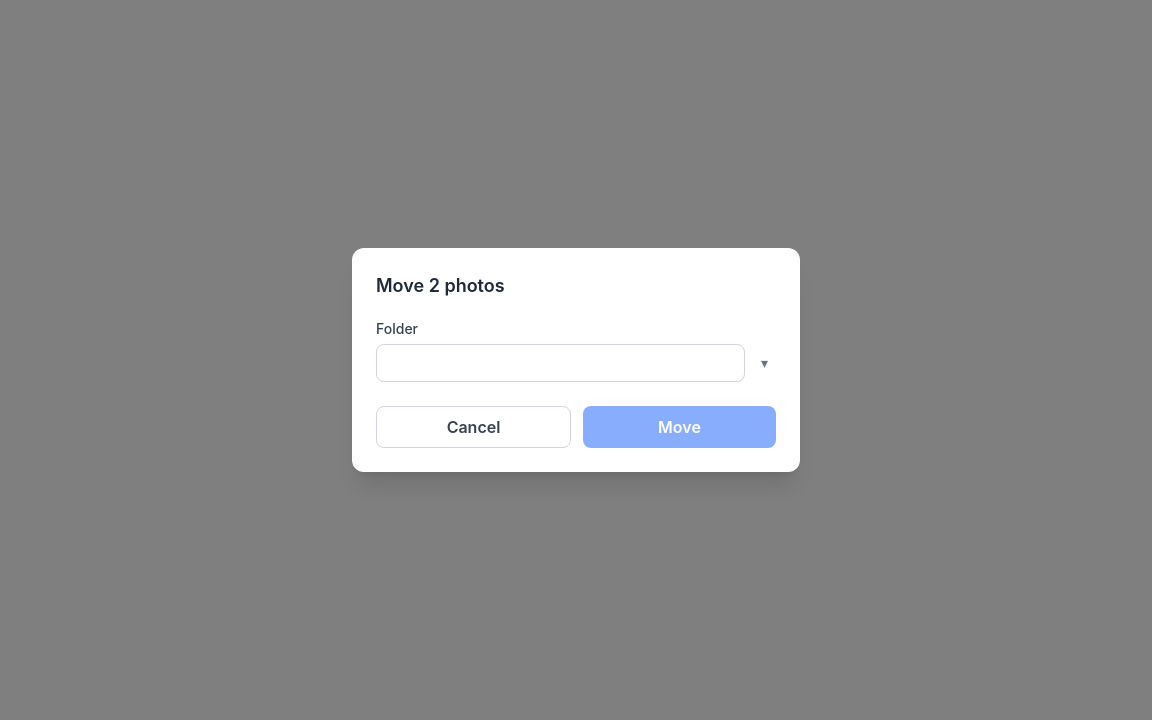
Test: MoveImagesModal › shows the API's sentence on a 404 and stays open
Step 1. Click the button with test id "album-picker-toggle" → click(764, 363), box [753,344,776,382]
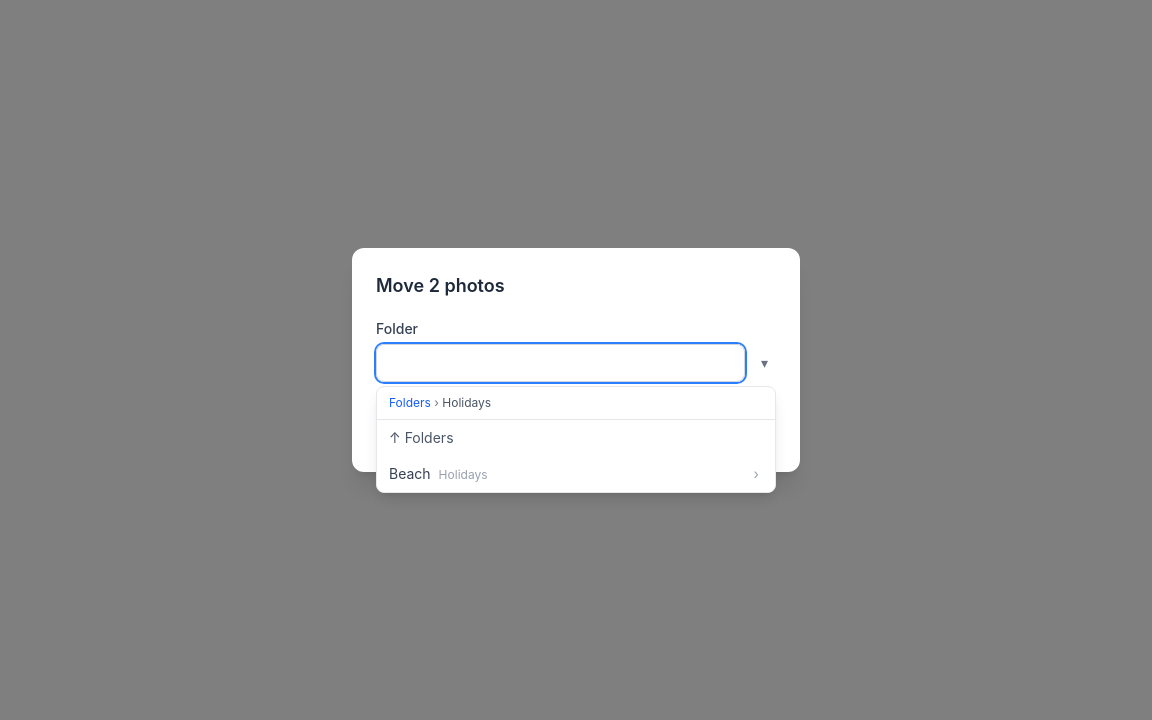
Step 2. Click the text "Beach" → click(438, 474), box [389,464,488,484]
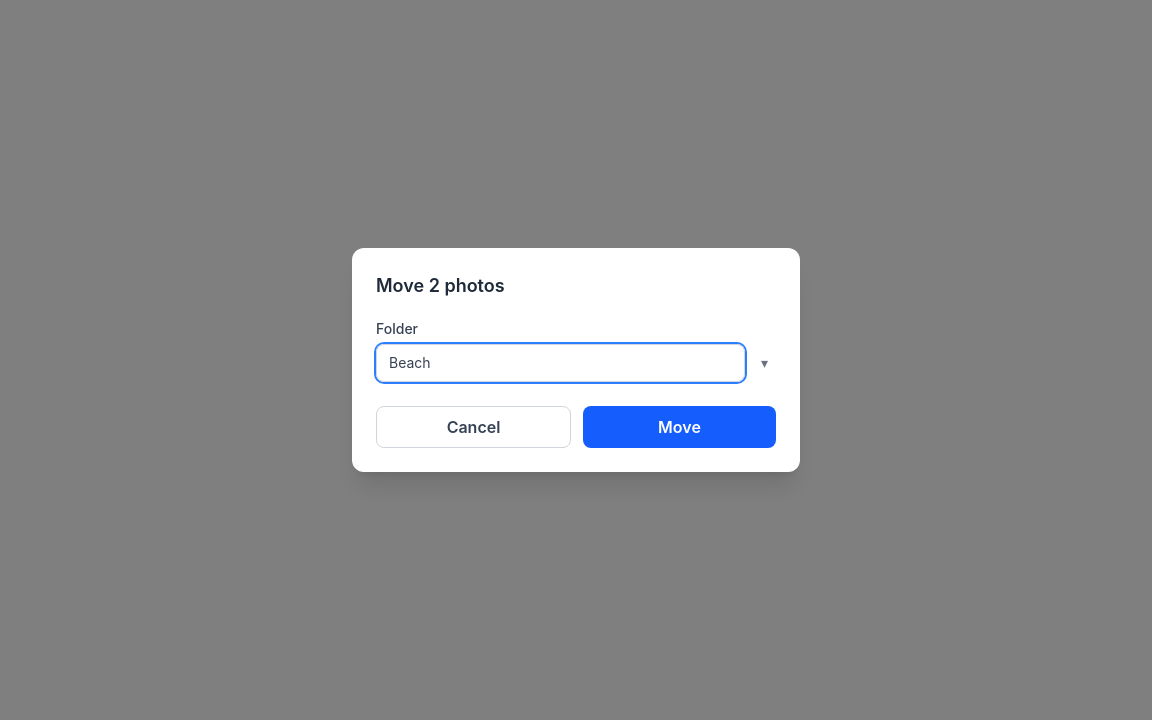
Step 3. Click the button with test id "move-confirm-button" → click(680, 427), box [583,406,776,448]
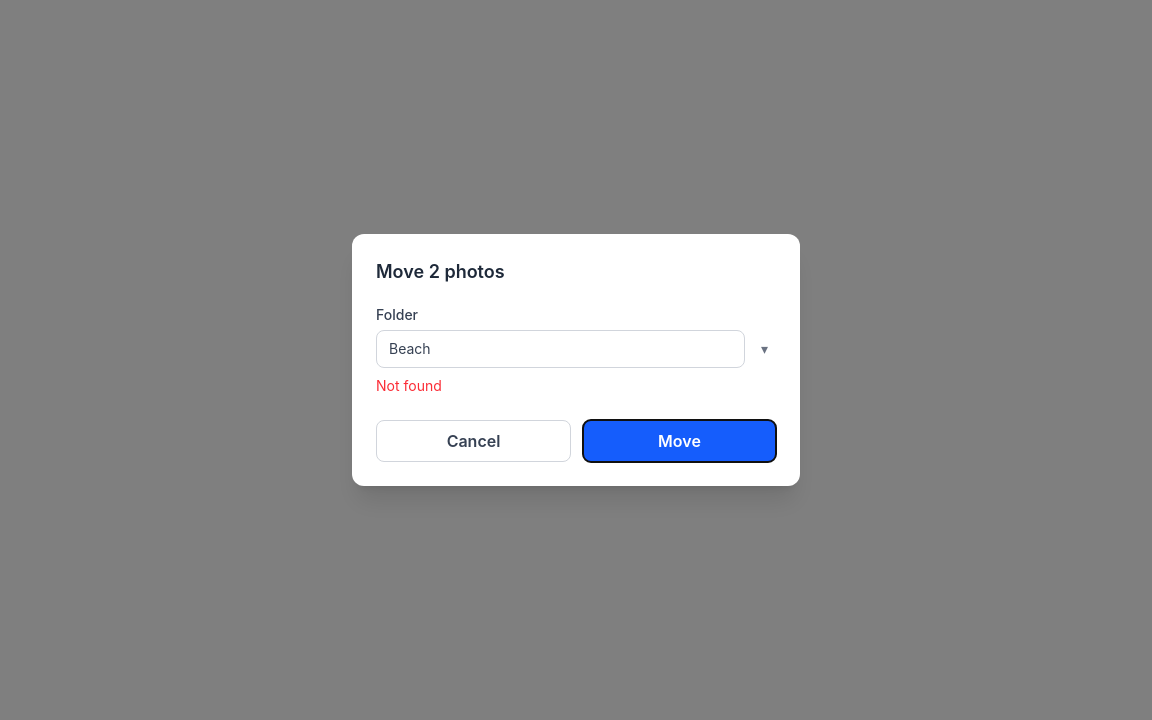
Expected: the text with test id "move-images-error" reads "Not found", [376,377,442,394]
